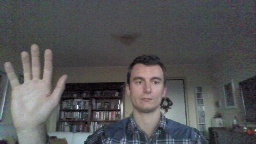Mano_aperta: (1, 42, 70, 128)
